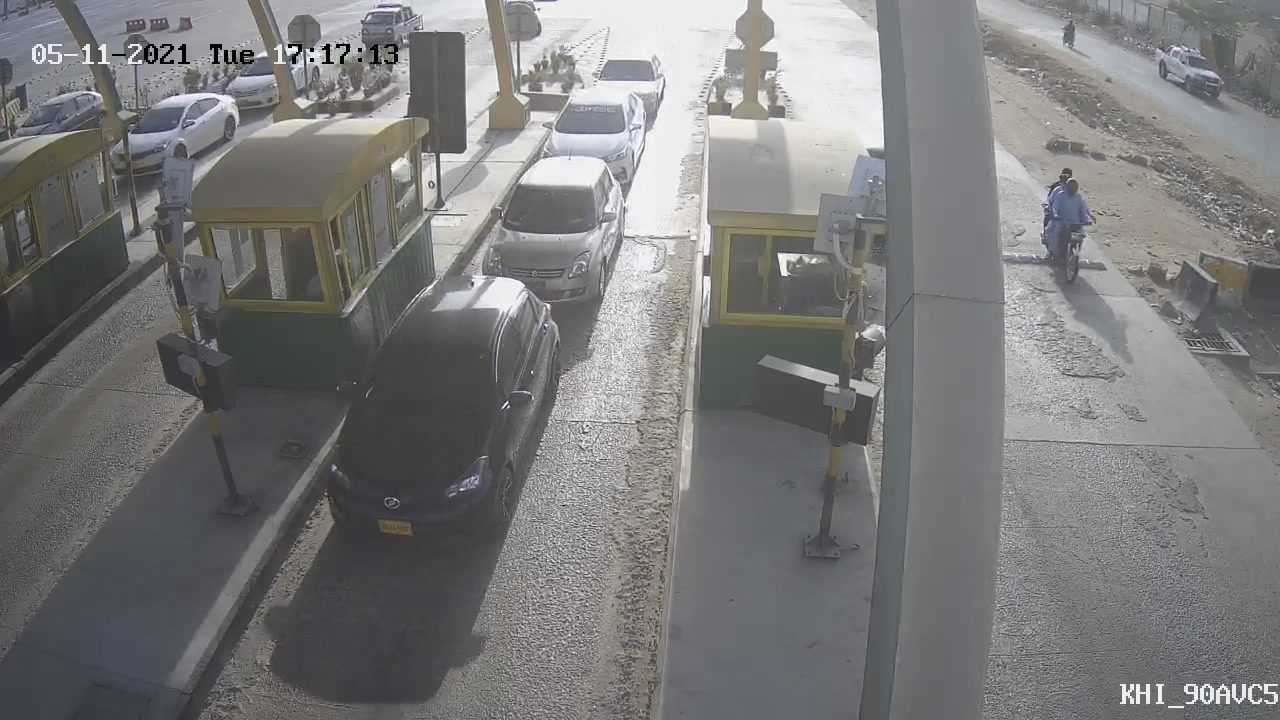F1: (299, 261, 581, 572), (466, 138, 639, 322)
